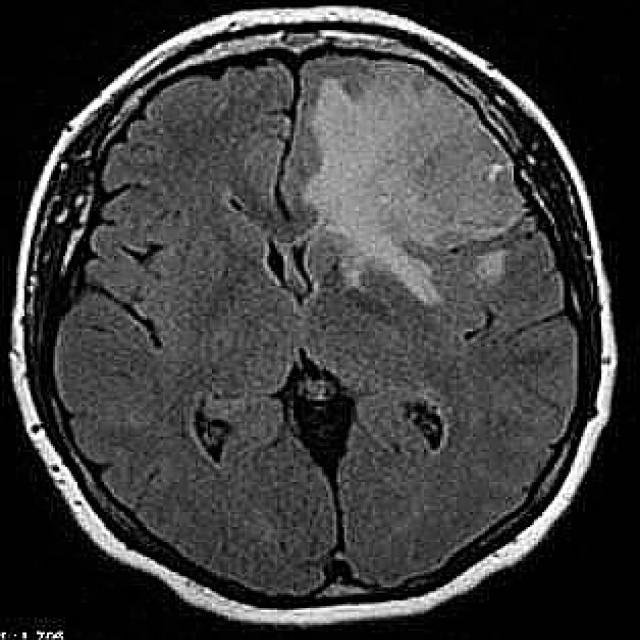Tumor-Cell: (313, 59, 524, 314)
